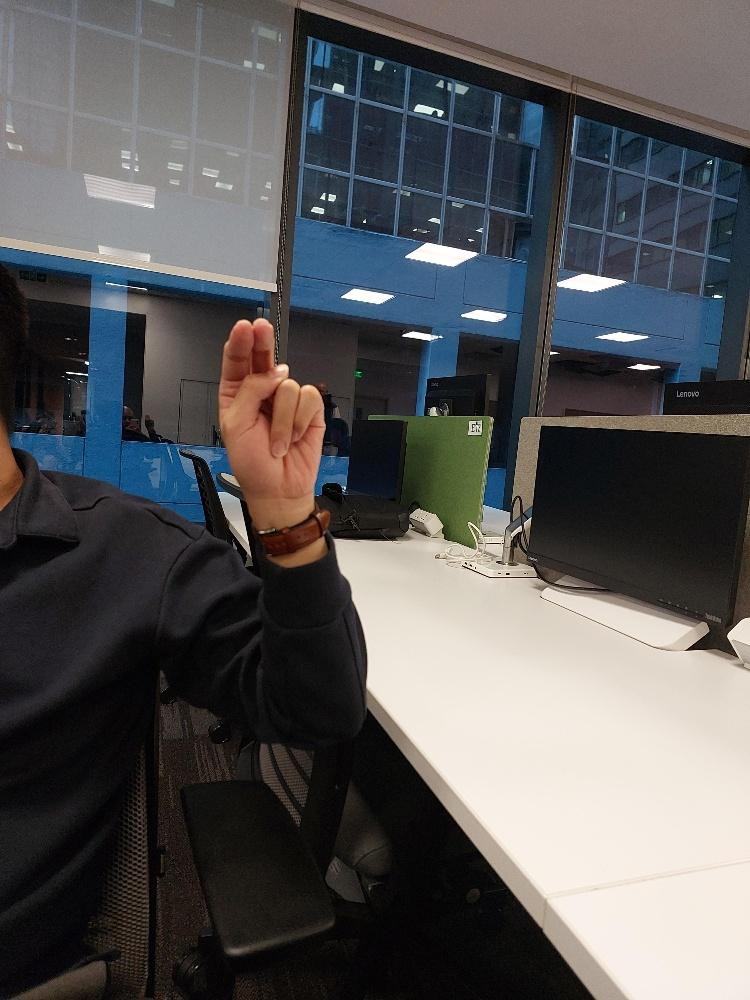n: (215, 315, 323, 497)
